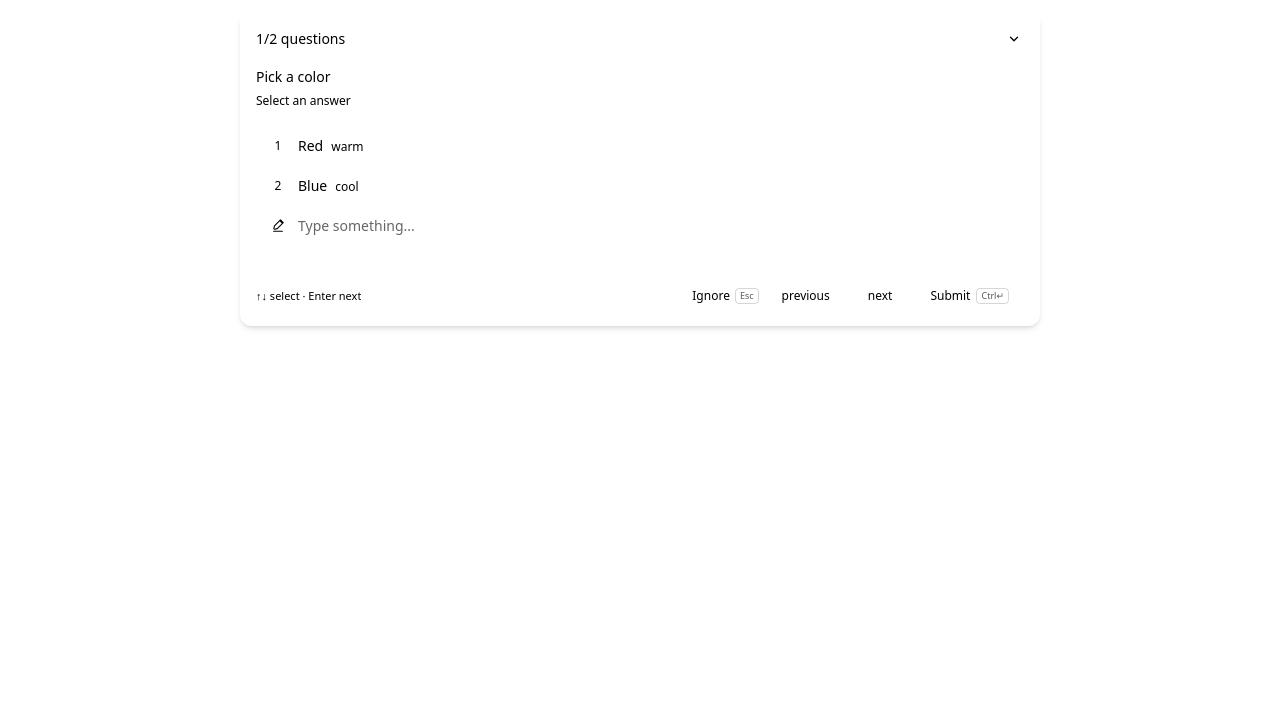
Test: AskUserQuestion multiple questions › does not advertise the global submit shortcut on the last question
This screenshot has width=1280, height=720.
Press Enter in the radio button labelled "1 Red warm", box left=256, top=128, right=1024, bottom=164
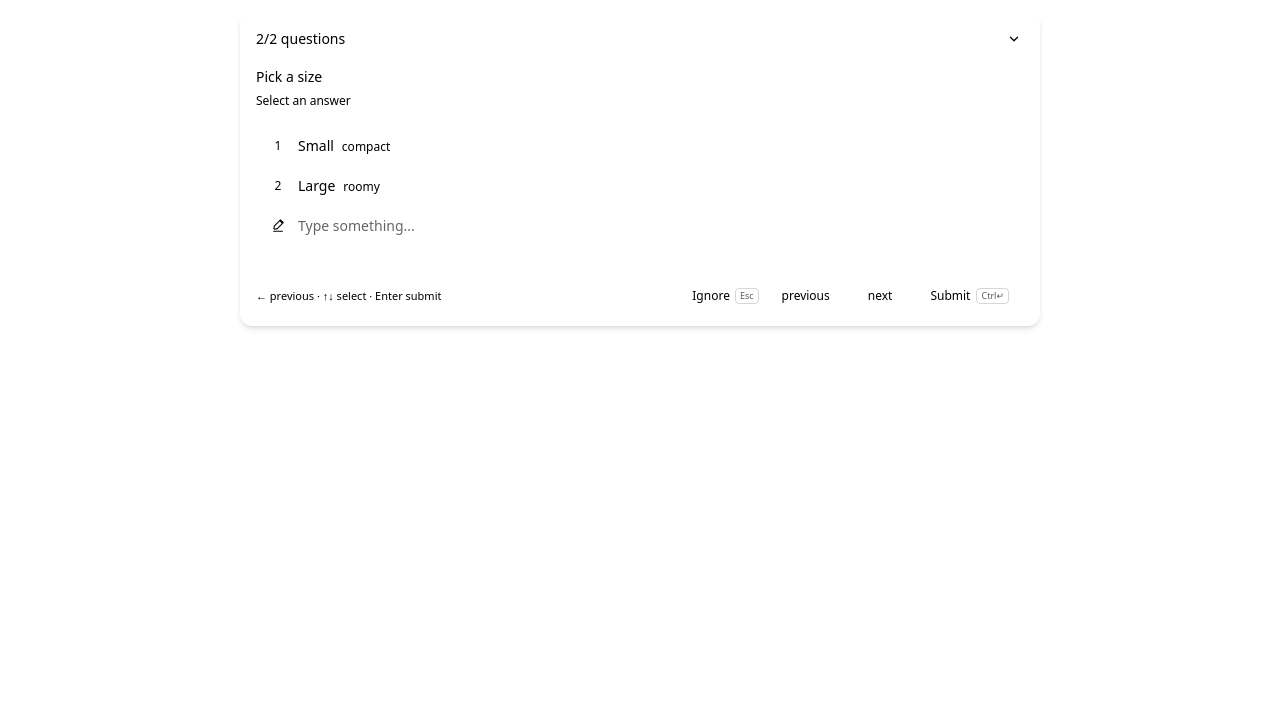
Expected: the text "↑↓ select · Enter submit" is shown, left=256, top=288, right=442, bottom=303
Click the radio button labelled "Type something..." at coordinates (356, 226), box left=298, top=215, right=1036, bottom=237
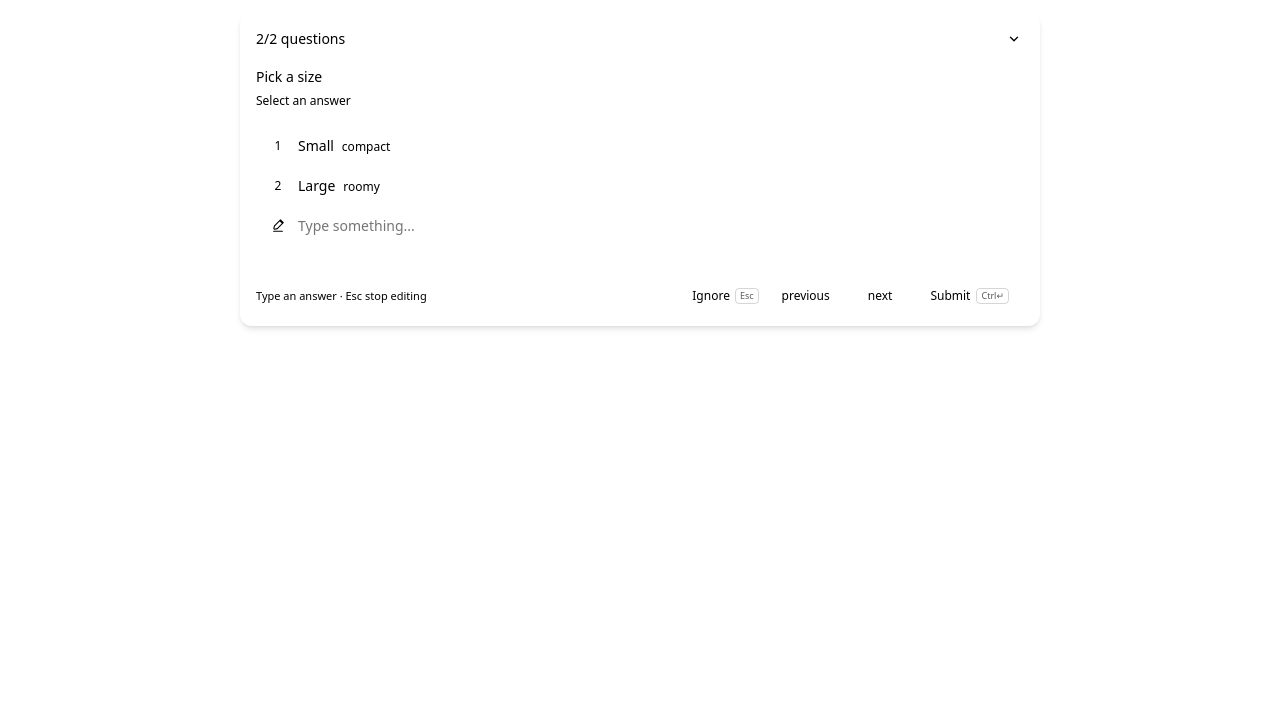
Expected: the text "Type an answer · Esc stop editing" is shown, left=256, top=288, right=427, bottom=304
